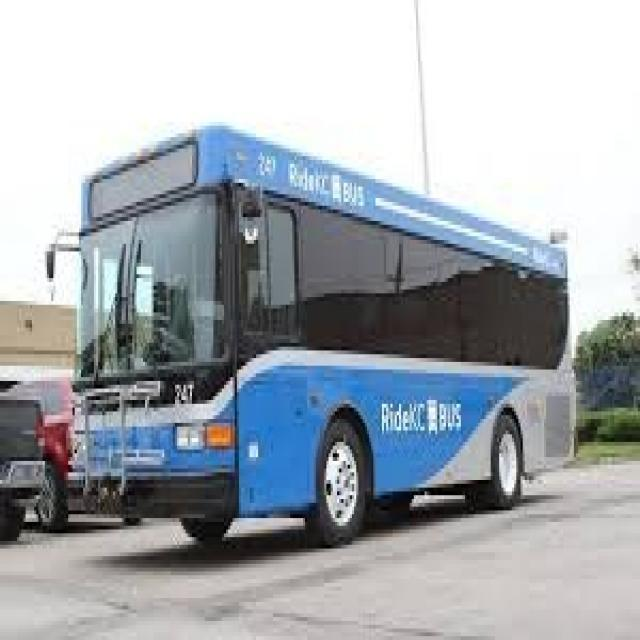Bus: (66, 118, 571, 551)
